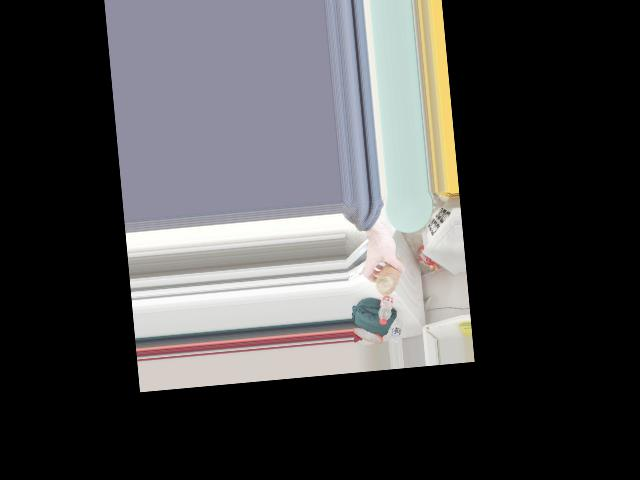sweet_potato: (372, 252, 408, 294)
